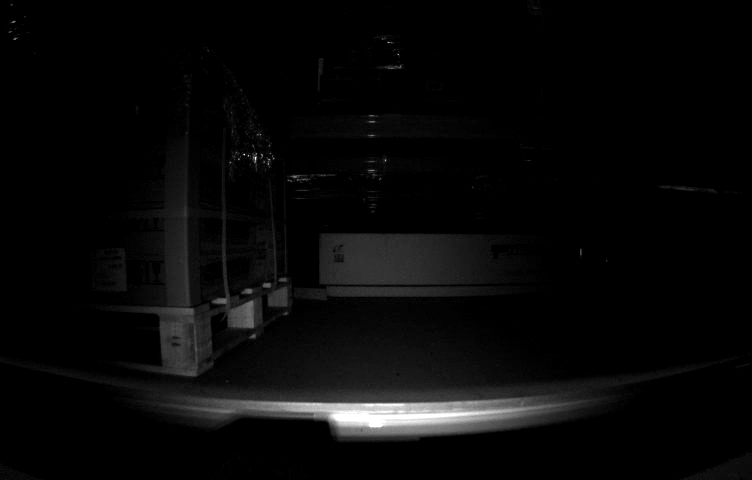True Barcode: (84, 242, 127, 291)
